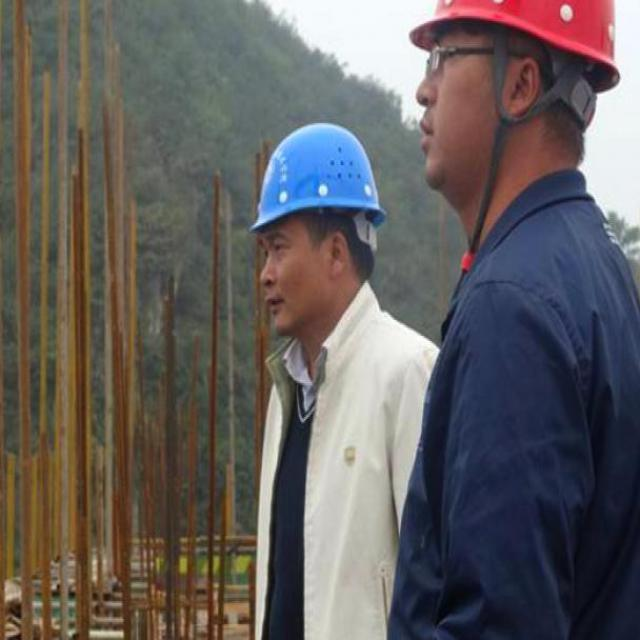helmet: (403, 0, 622, 199), (227, 123, 378, 333)
